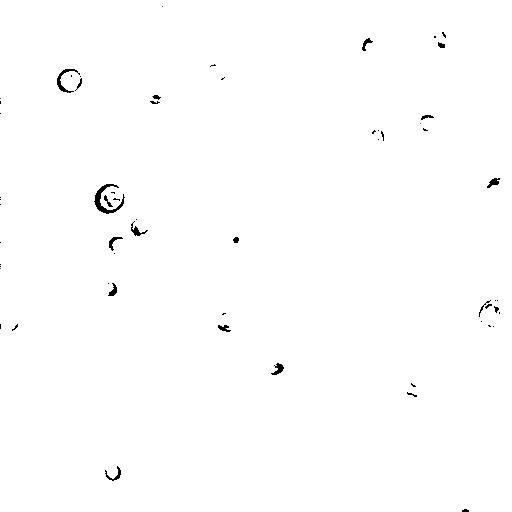micro-algae: (55, 117, 171, 234), (219, 223, 253, 255), (478, 296, 509, 328), (93, 183, 126, 213), (405, 365, 435, 396), (429, 24, 457, 57), (57, 68, 83, 95), (357, 33, 381, 60), (217, 307, 242, 331), (203, 62, 230, 84), (484, 175, 507, 200), (153, 0, 177, 20), (131, 216, 151, 238), (107, 235, 127, 256), (453, 498, 483, 511), (369, 125, 385, 149), (417, 113, 437, 132), (262, 360, 283, 378), (1, 315, 21, 333), (99, 279, 117, 298), (105, 462, 123, 481)
